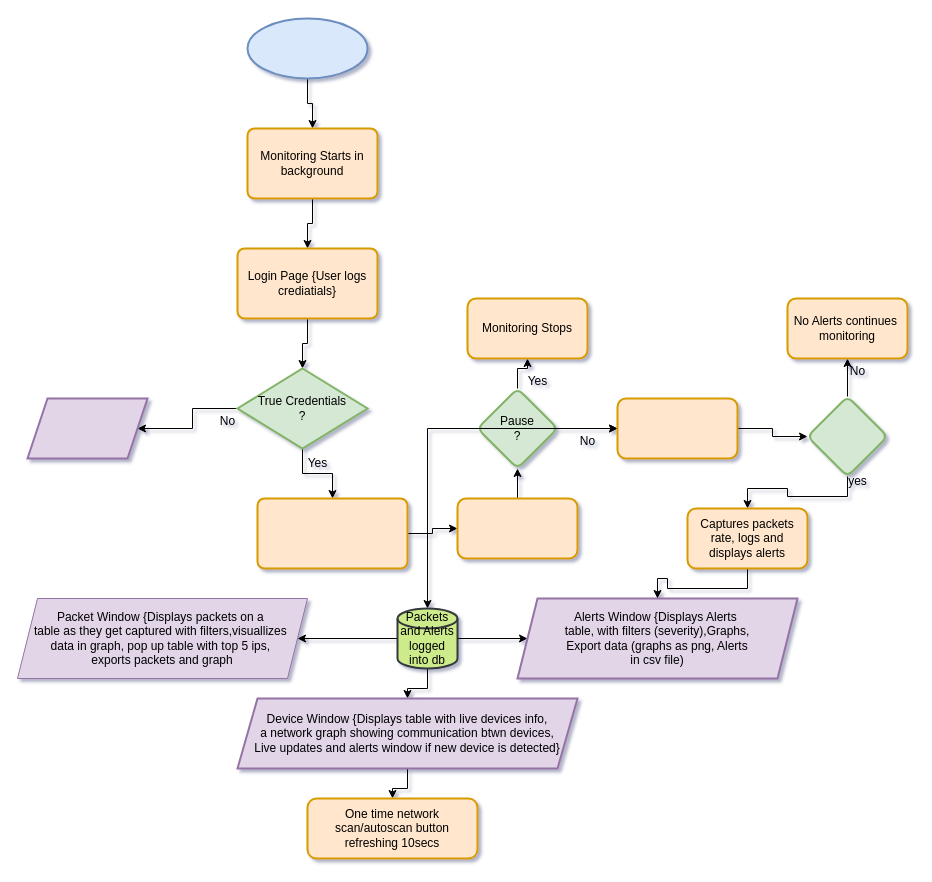
The diagram is 932 pixels wide and 882 high, and some of its shapes have lost their labels. Here are the shapes that lost their labels. From the top down, the centre of each, then its label:
the point at 307,48: System starts
the point at 87,428: User doesn't exist {Try again}
the point at 677,428: Resumes Monitoring {Packet capture}
the point at 847,436: packets above 1000 ?
the point at 332,533: System opens and displays dashboard {Live charts, Starts packet capture}
the point at 517,528: Pause/Resume monitoring button {dashboard}
